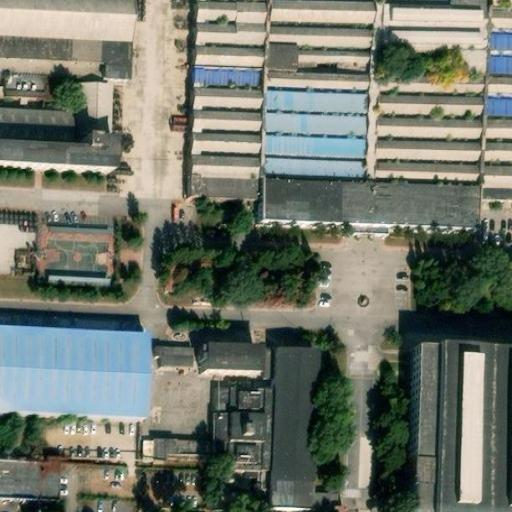building: (260, 0, 488, 225), (412, 342, 512, 512), (189, 0, 268, 198), (0, 327, 144, 419), (270, 346, 319, 509), (212, 384, 275, 470), (0, 132, 116, 168), (481, 74, 512, 197), (0, 458, 60, 497), (486, 0, 512, 74), (202, 347, 262, 375), (81, 80, 113, 132), (143, 436, 210, 460), (0, 72, 56, 99), (420, 243, 477, 264), (46, 274, 114, 288), (154, 345, 194, 366), (263, 346, 276, 379)
